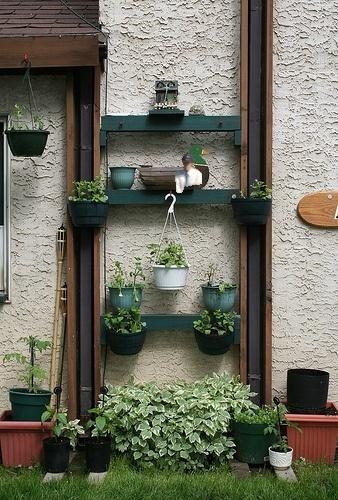tampered: (176, 154, 202, 193)
